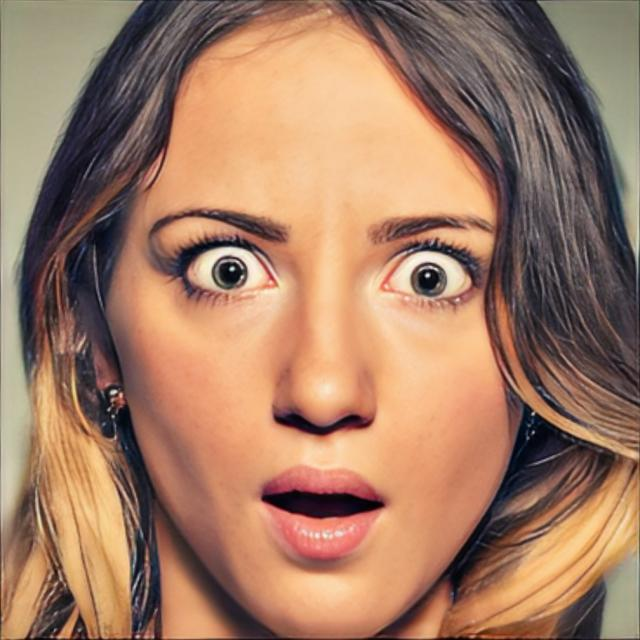Fear: (103, 2, 525, 640)
